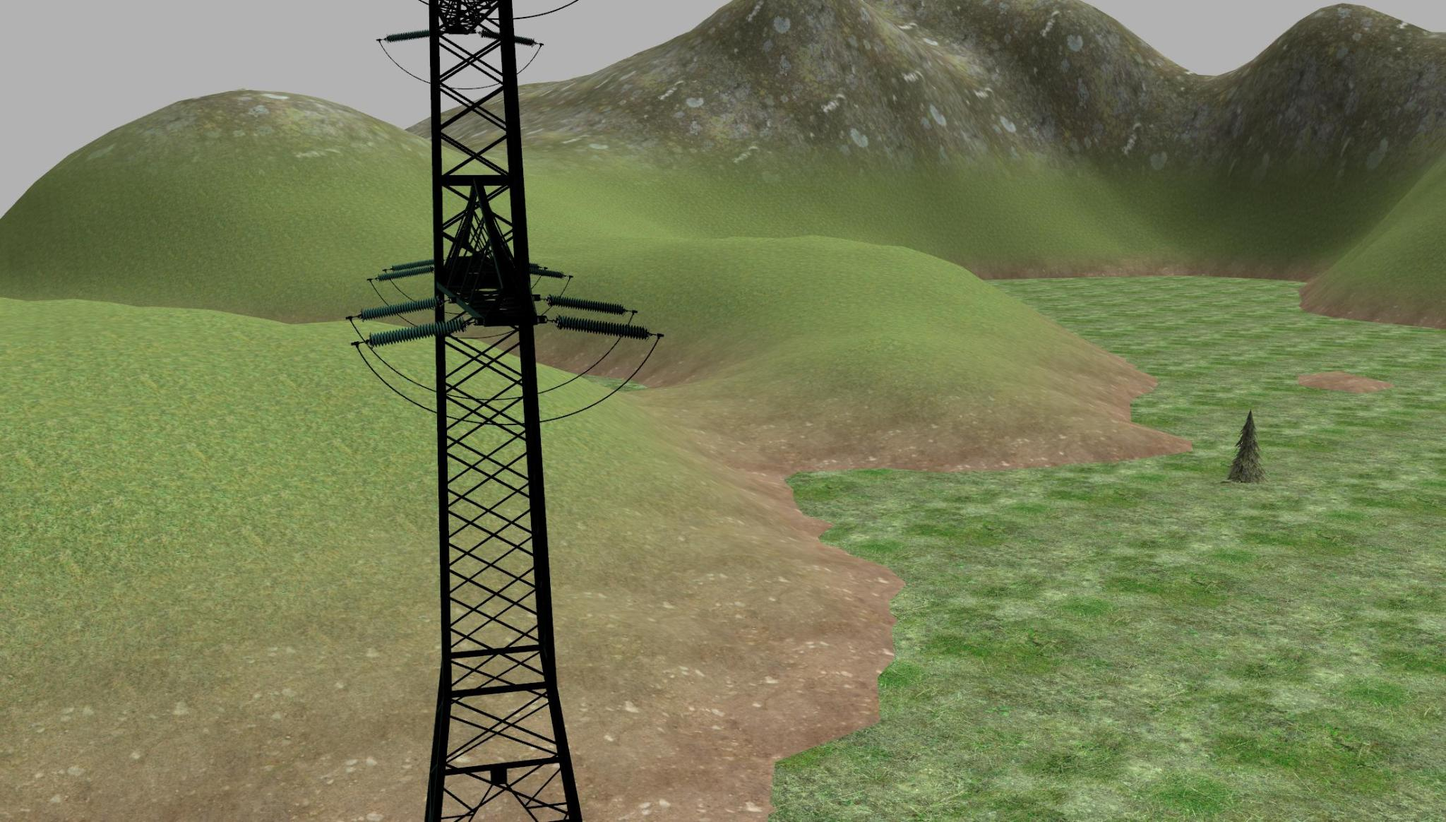tower: (405, 0, 593, 822)
